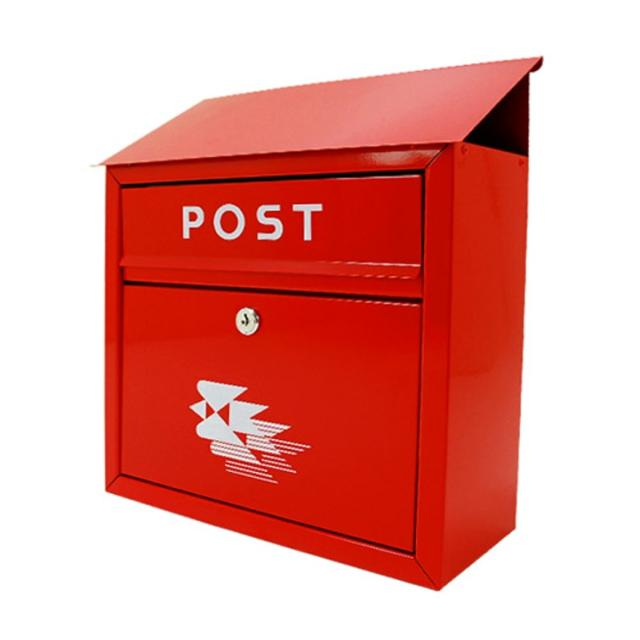Post Box: (84, 52, 546, 594)
